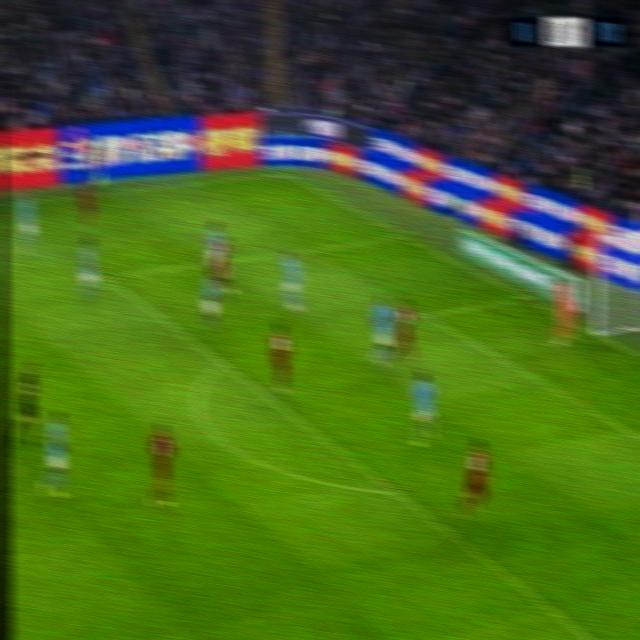bigarea_top_inner: (95, 265, 121, 291)
bigarea_top_outter: (389, 228, 415, 244)
bottom_arc_area_intersection: (380, 477, 409, 502)
corner: (268, 168, 293, 179)
smallarea_top_inner: (417, 305, 437, 325)
smallarea_top_outter: (511, 290, 537, 306)
top_arc_area_intersection: (205, 351, 239, 376)
